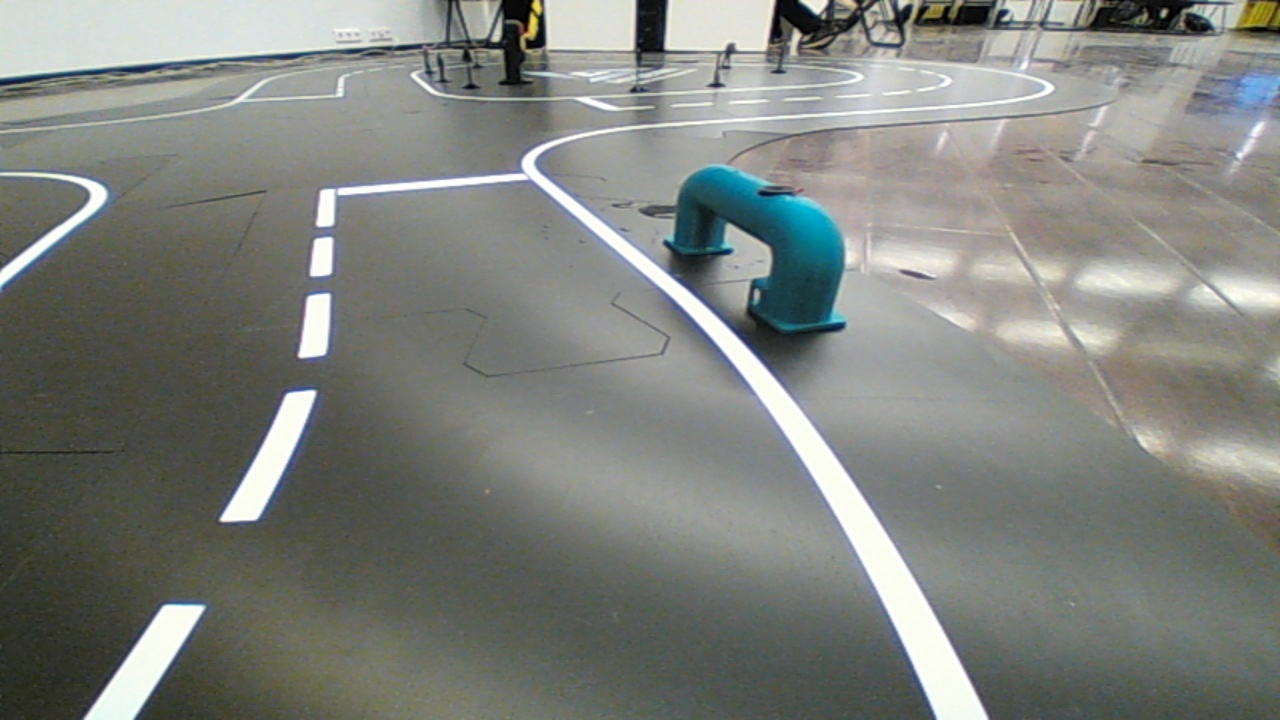Pedestrian crossing: (642, 153, 857, 358)
